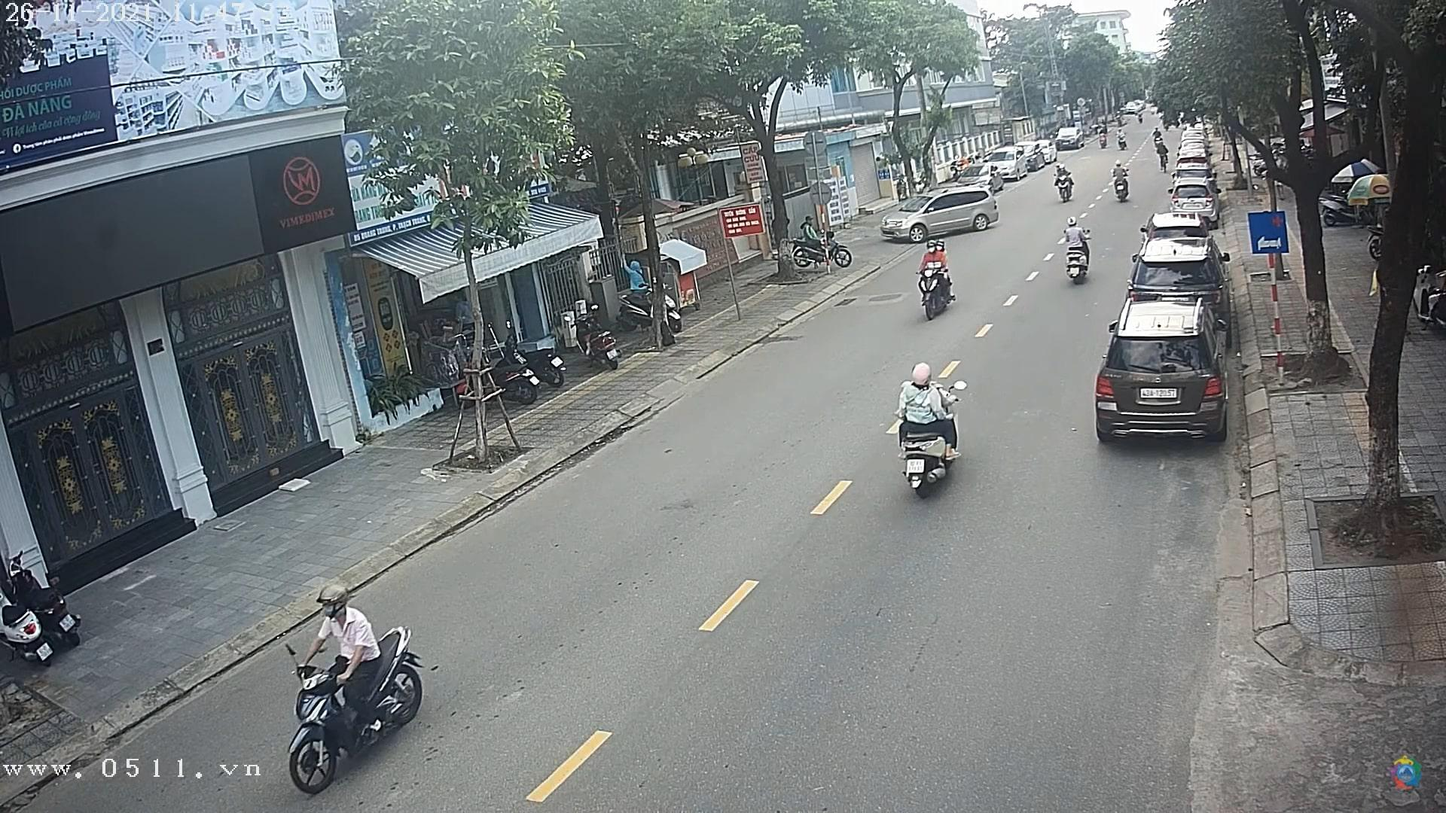car: (1095, 300, 1226, 445), (879, 187, 1004, 243), (1130, 237, 1231, 304), (1167, 165, 1214, 189), (1170, 158, 1211, 181), (1057, 125, 1086, 149)
motorbike: (281, 631, 430, 793), (899, 431, 957, 497), (919, 269, 956, 320), (1066, 242, 1092, 288), (1115, 178, 1134, 205)
